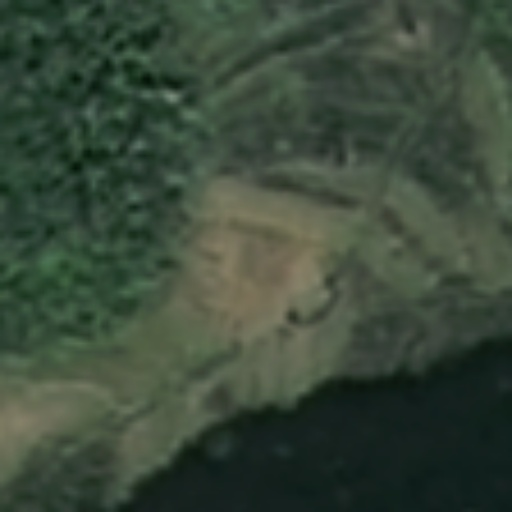landslide: (190, 213, 326, 327)
